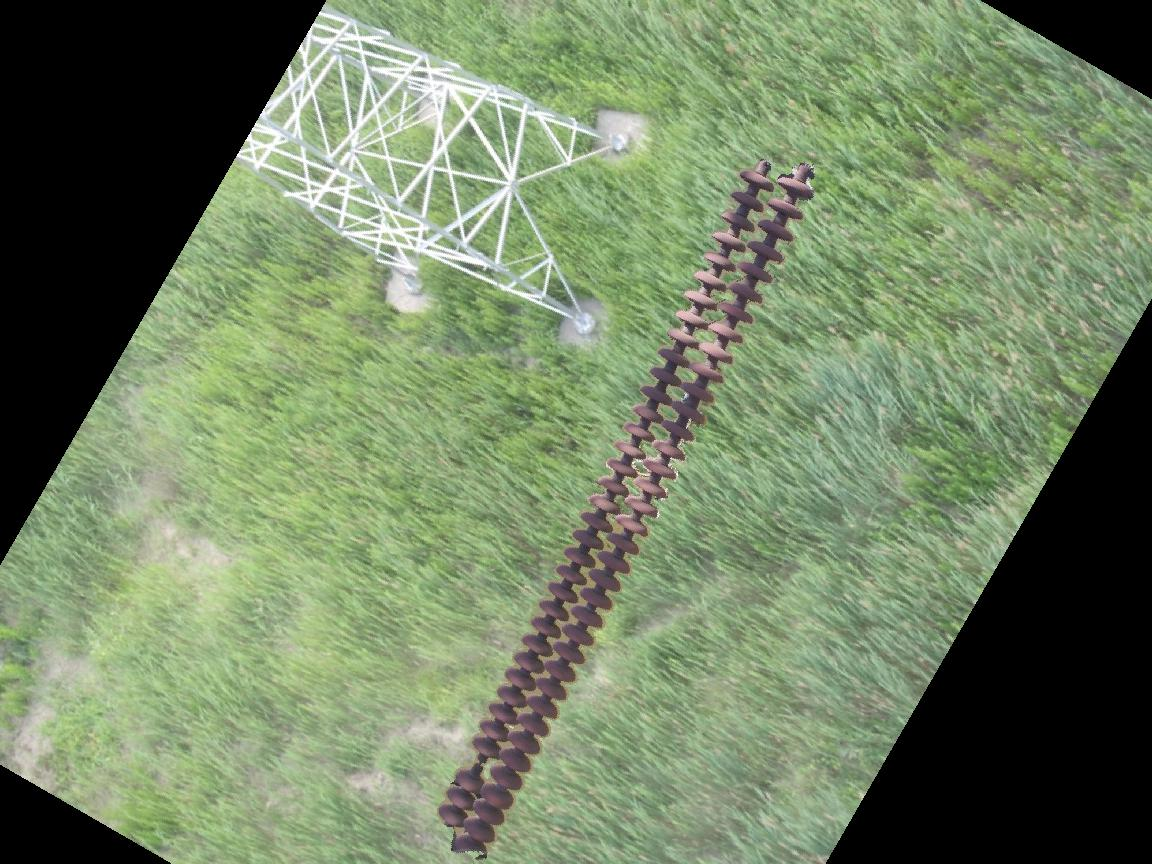insulator: (433, 163, 817, 855)
insulator_stringdrop: (453, 736, 505, 793)
